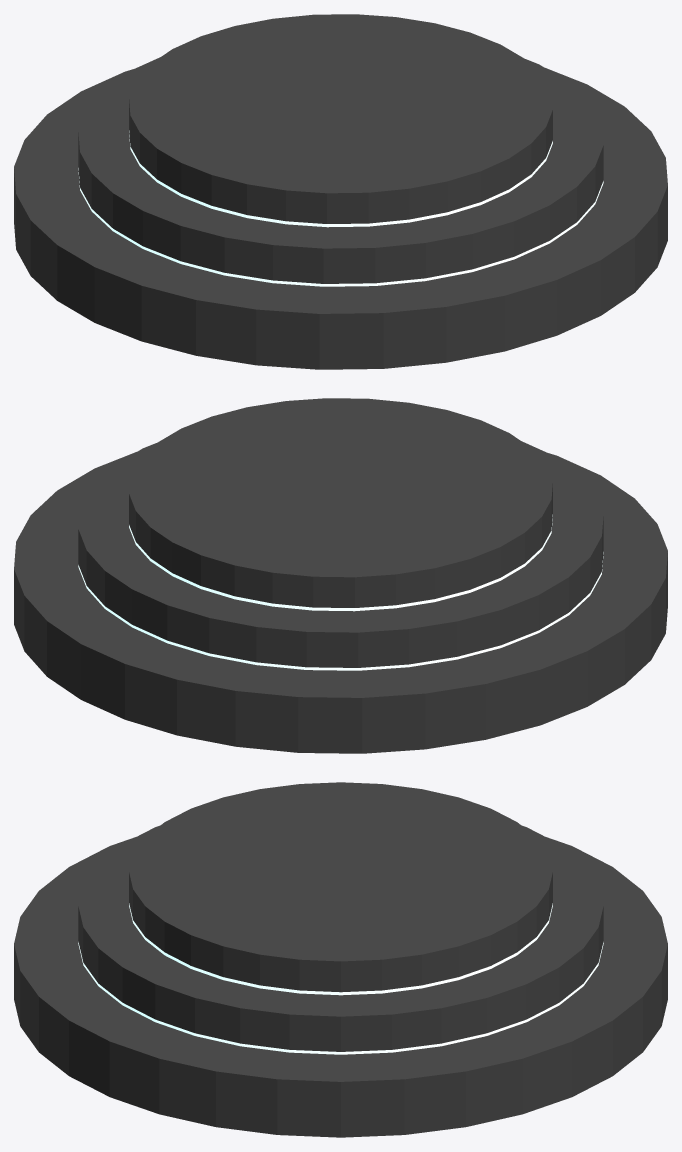
Rendered from base-lab.fbx.
3 views of the same model, one above another, from view 1: azimuth 30°, elevation 25°; view 2: azimuth 150°, elevation 25°; view 3: azimuth 270°, elevation 25° (orthographic).
Parts seen in each view (by area): view 1: Base; view 2: Base; view 3: Base.
Boxes of the visible parts, x1,y1,x2,y2 form: Base: (14, 14, 667, 369); Base: (14, 398, 667, 753); Base: (14, 782, 667, 1137).
Bounding box in the file's own units: 327 × 70.5 × 327.
